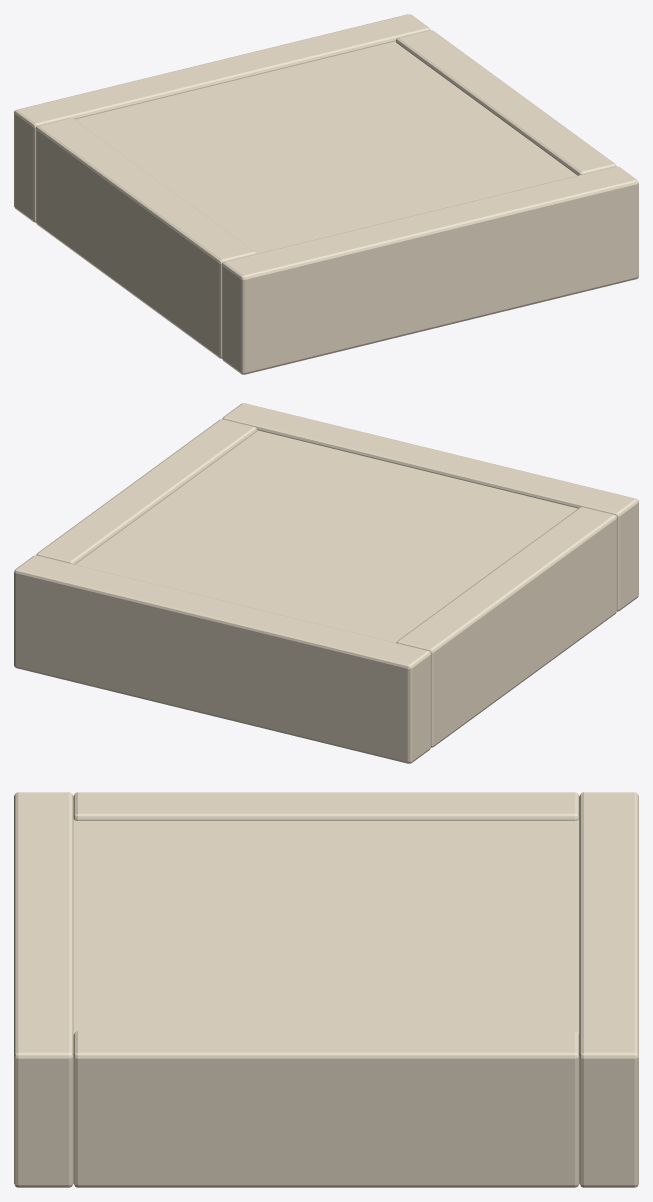
Rendered from sg_flush_paper.glb.
3 renders of one model, top to bottom at view 1: azimuth 30°, elevation 25°; view 2: azimuth 150°, elevation 25°; view 3: azimuth 270°, elevation 25°, orthographic. The views are drawn at different scales.
Parts seen in each view (by area): view 1: frame, plate; view 2: frame, plate; view 3: frame, plate.
Boxes of the visible parts, x1,y1,x2,y2 form: frame: [14, 14, 638, 374]; plate: [75, 41, 577, 253]; frame: [14, 403, 638, 763]; plate: [75, 430, 577, 642]; frame: [14, 792, 638, 1187]; plate: [73, 819, 579, 1034].
Size of the model in its own units: 0.42 by 0.1 by 0.42.
